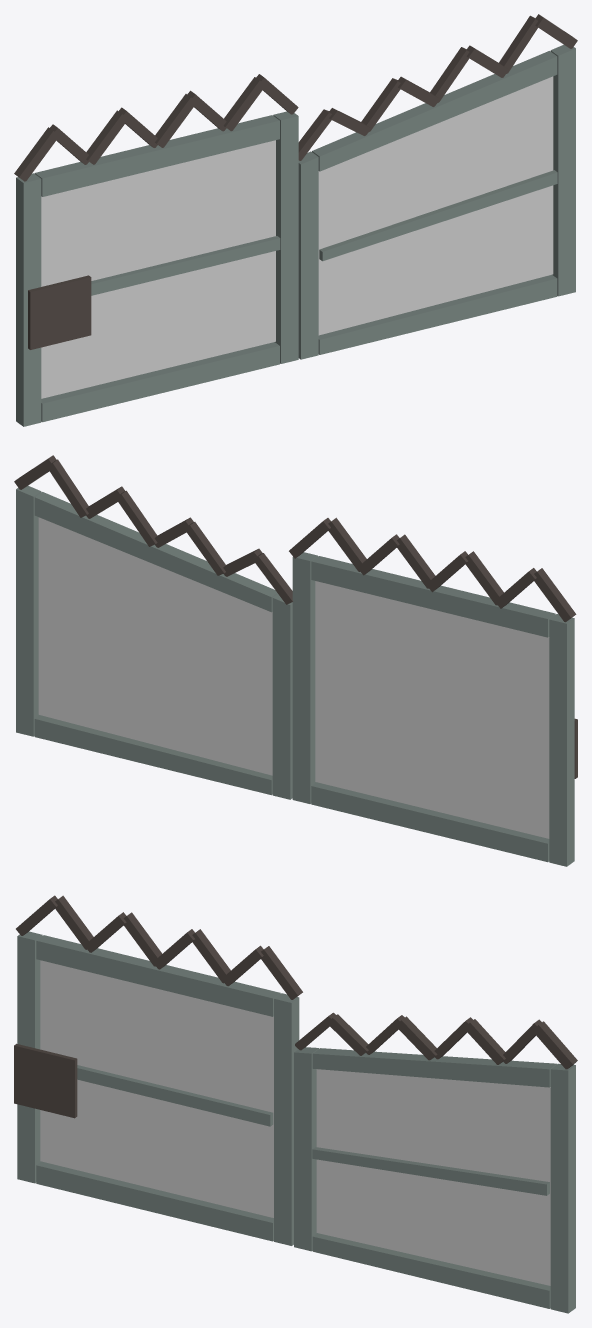
File: SM_PuertaVia_v3_MallaEspino_e1_Danado_LOD1.fbx
3 renders of one model, top to bottom at view 1: azimuth 30°, elevation 25°; view 2: azimuth 150°, elevation 25°; view 3: azimuth 330°, elevation 25°, orthographic.
Visible parts, largest first — view 1: Hoja_O, Hoja_E; view 2: Hoja_O, Hoja_E; view 3: Hoja_O, Hoja_E.
Part boxes in pixels (x1,y1,x2,y2): Hoja_O: (14, 74, 298, 426); Hoja_E: (298, 14, 577, 359); Hoja_O: (289, 517, 577, 866); Hoja_E: (14, 455, 293, 799); Hoja_O: (14, 895, 302, 1245); Hoja_E: (294, 1012, 577, 1313).
Size of what is drawn, in the model's own units: 5.04 by 2.48 by 0.21.
